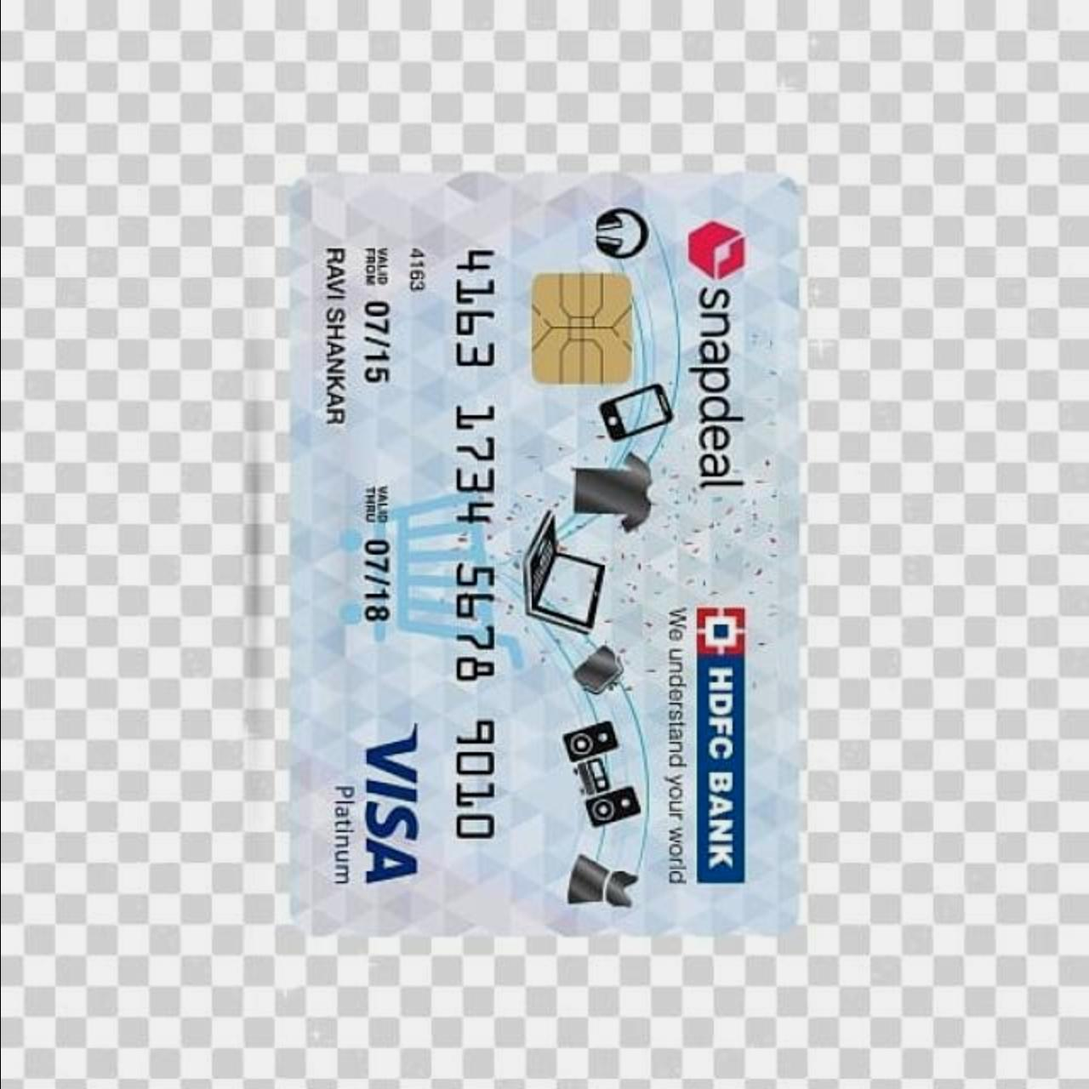credit_card: (262, 170, 817, 963)
